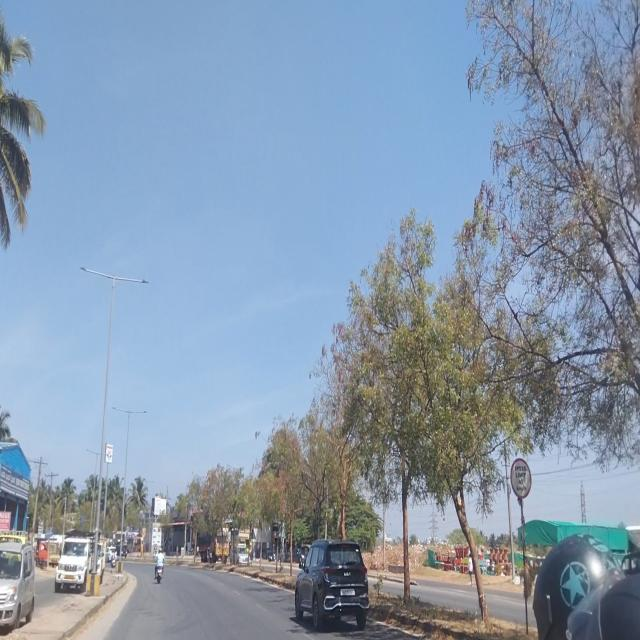bien_cam: (510, 456, 533, 500)
